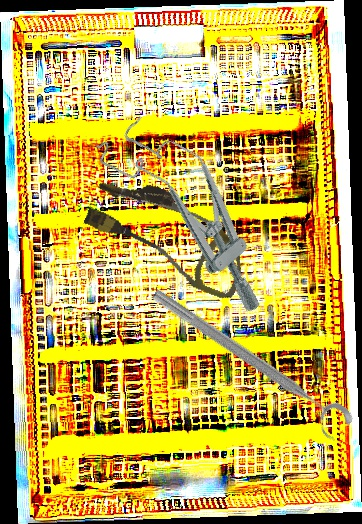Cannula: (75, 166, 261, 303)
Fixation Ring: (140, 283, 357, 446)
Speculum: (89, 98, 299, 325)
